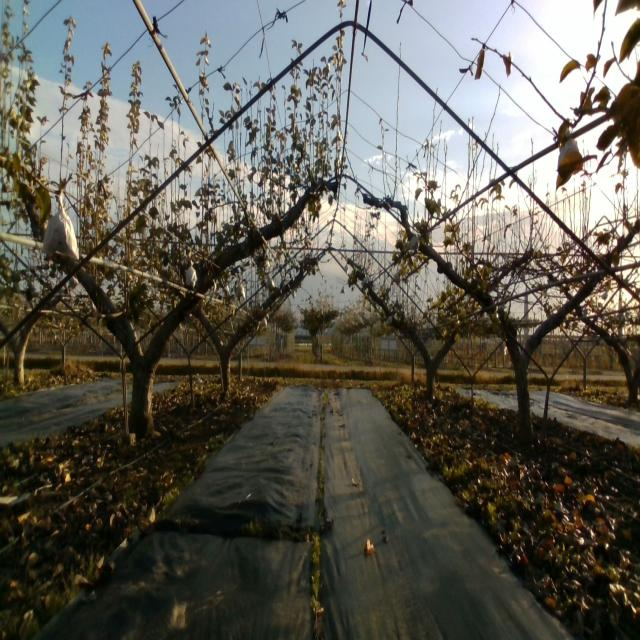pearbags: (40, 192, 80, 260), (556, 122, 582, 174), (185, 258, 198, 286), (406, 233, 420, 255), (235, 282, 246, 302)
